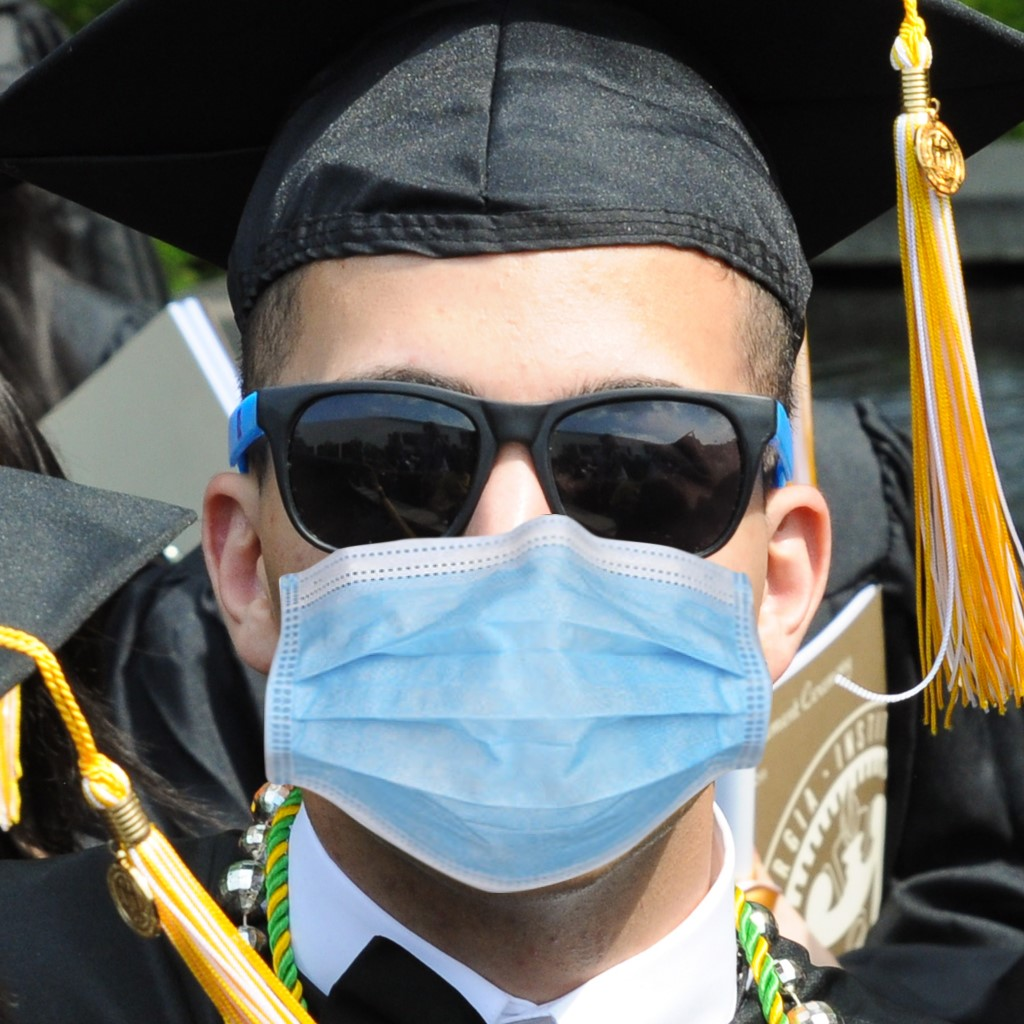con_mascara: (227, 197, 775, 890)
